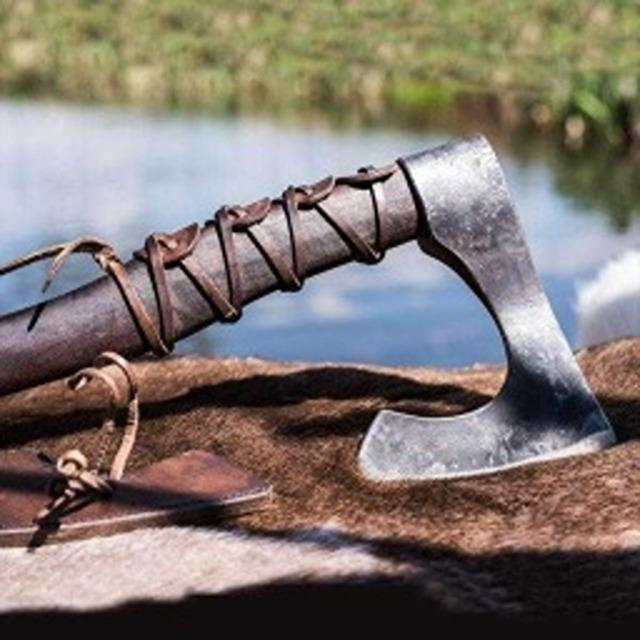ax: (2, 124, 626, 489)
